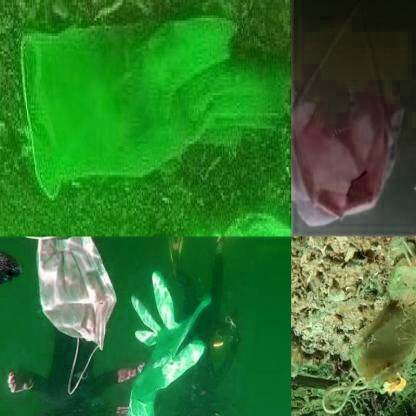Mask: (291, 0, 416, 236), (7, 236, 124, 398), (322, 238, 415, 415)
glove: (15, 3, 290, 211), (116, 264, 229, 415)
